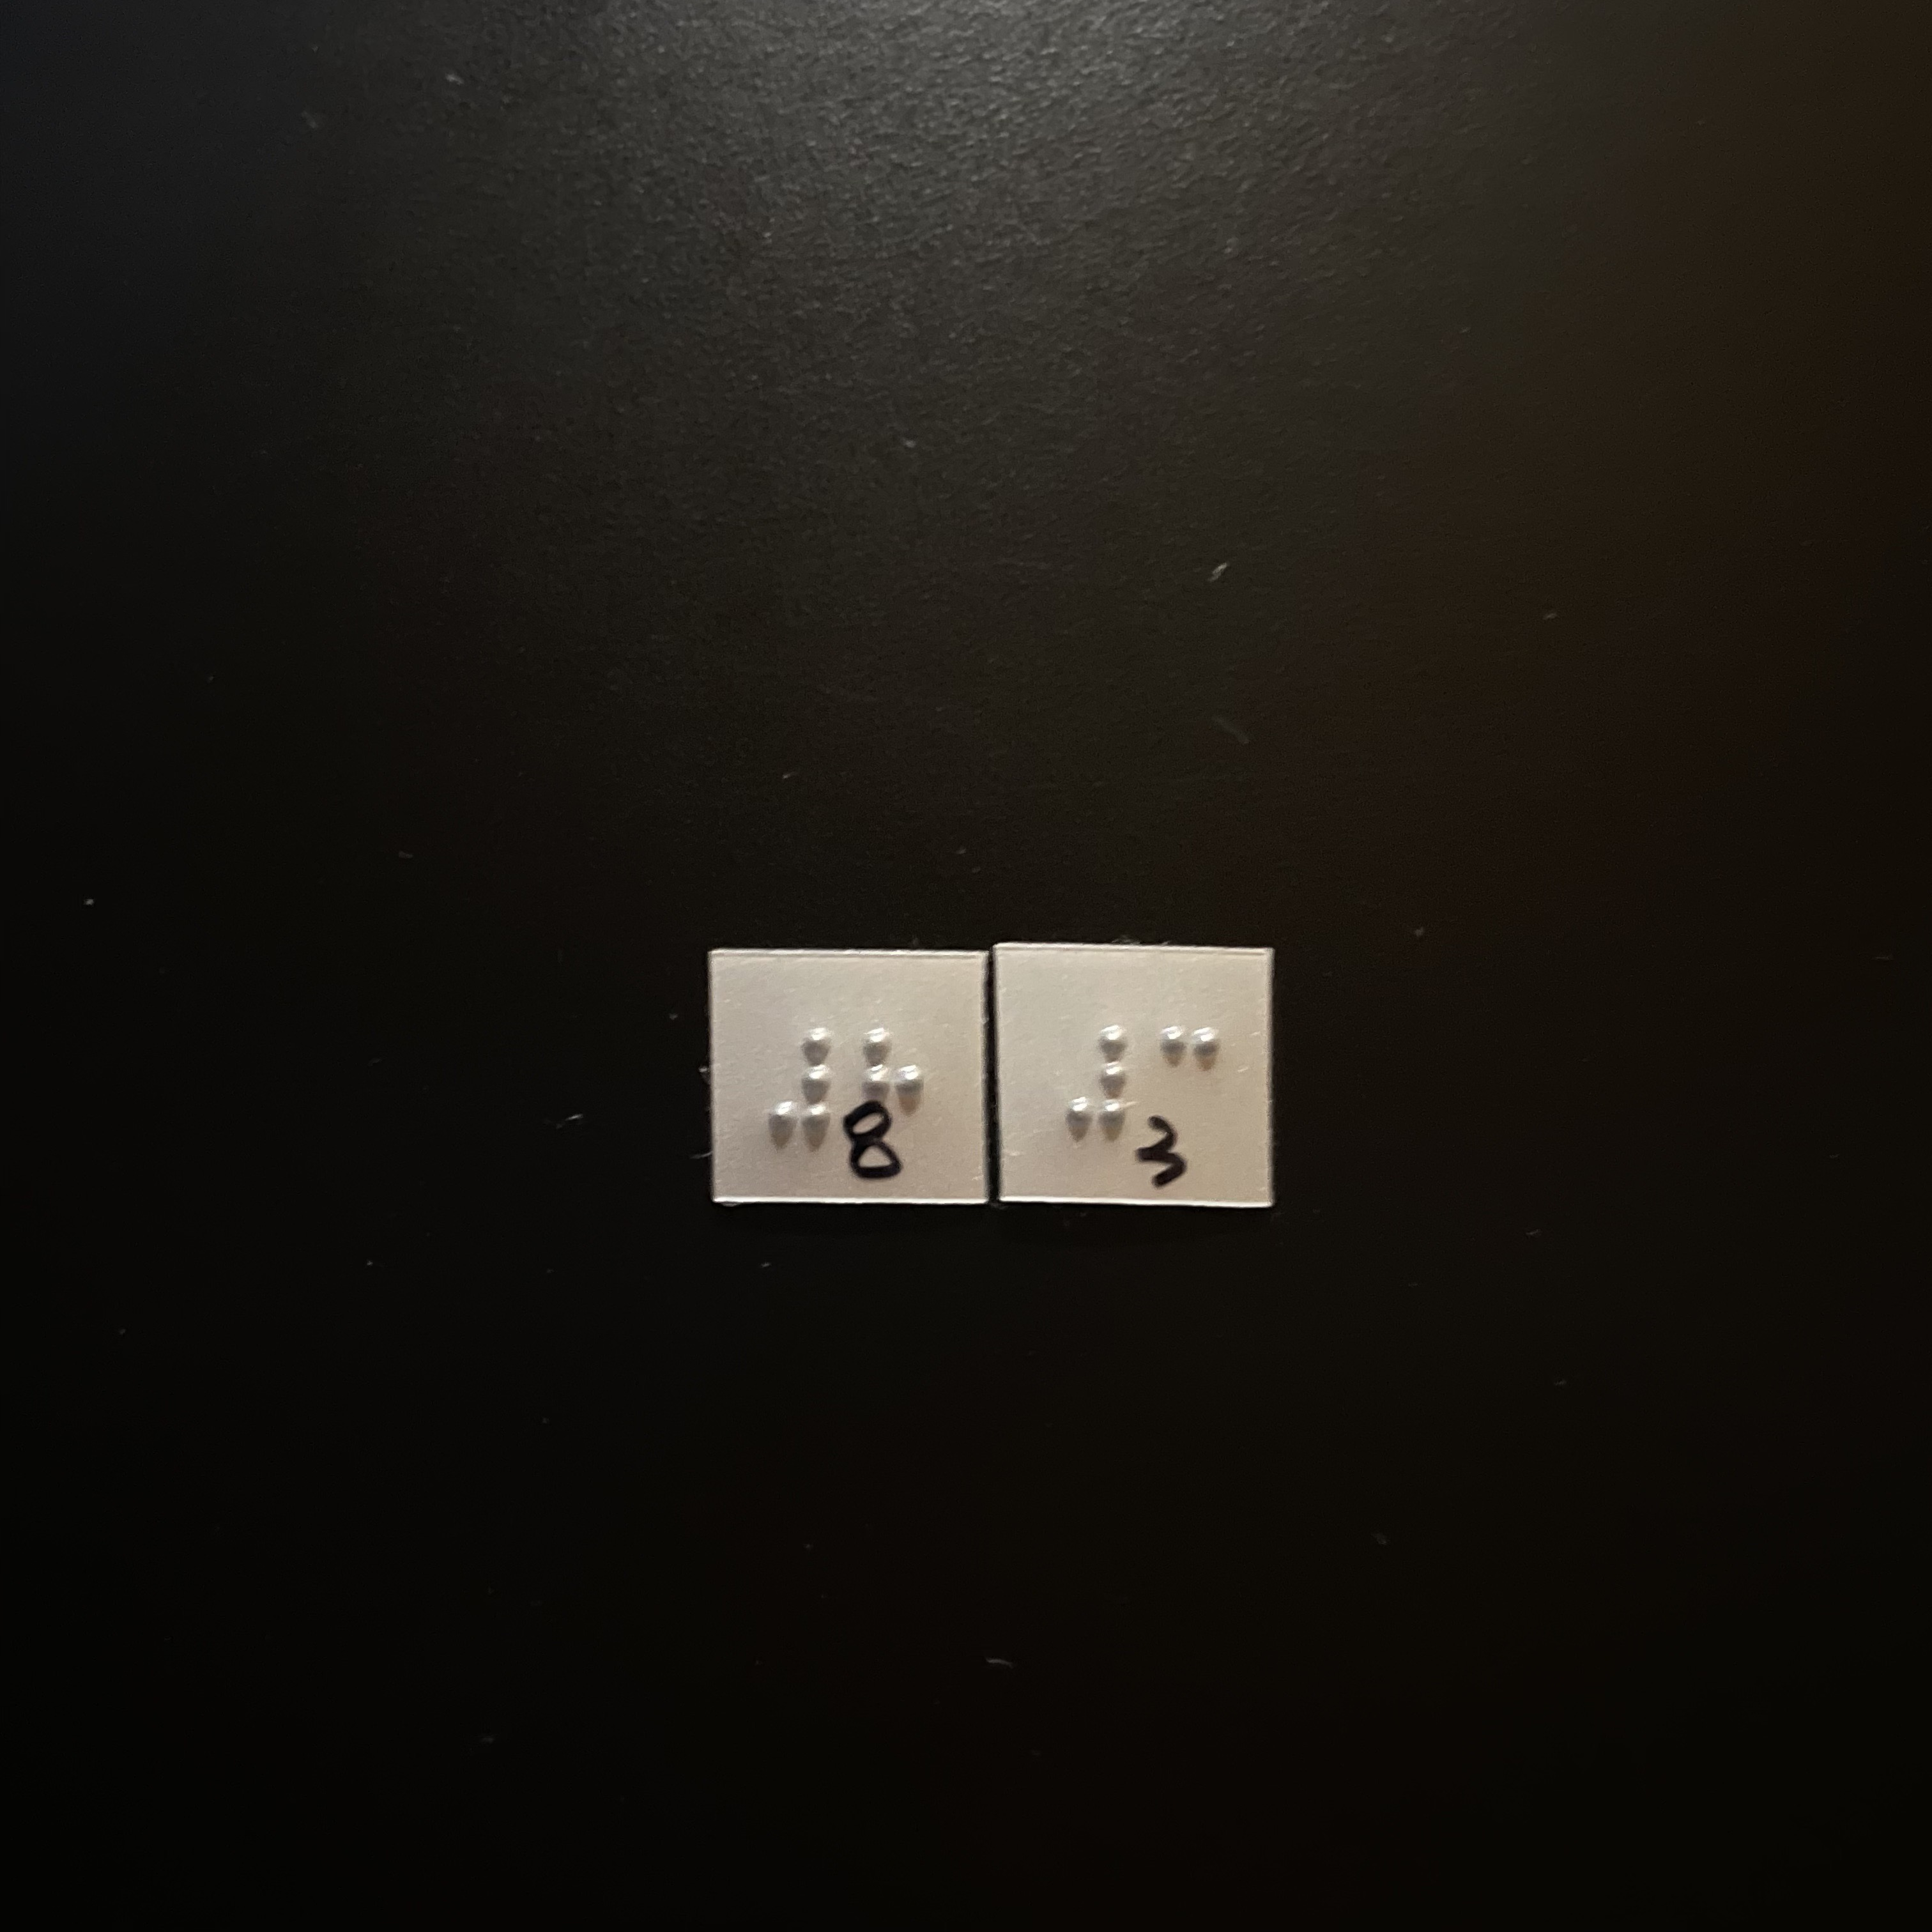#: (1054, 1024, 1144, 1150), (760, 1024, 842, 1147)
c: (1148, 1024, 1234, 1152)
h: (853, 1027, 930, 1150)
